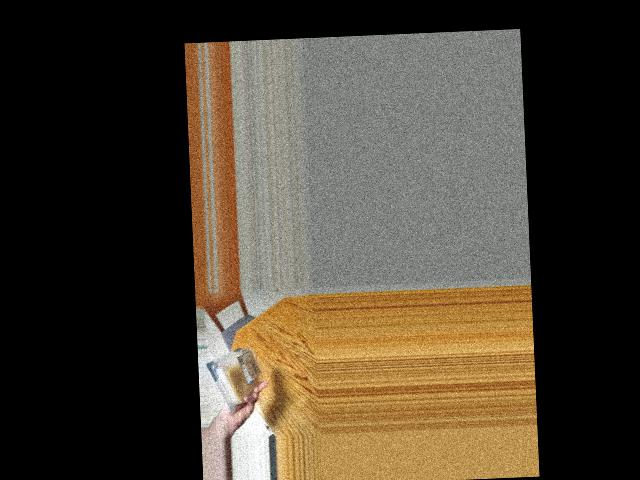cheese: (214, 346, 258, 406)
